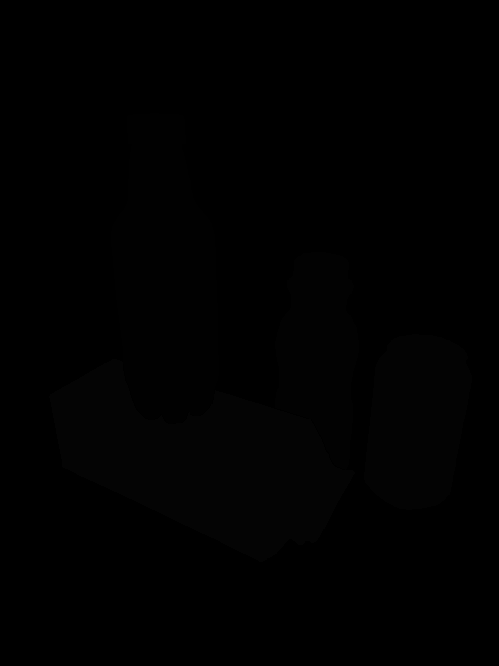can: (361, 332, 475, 513)
carton: (47, 357, 355, 565)
milk_bottle: (272, 248, 361, 472)
water_bottle: (107, 109, 223, 425)
